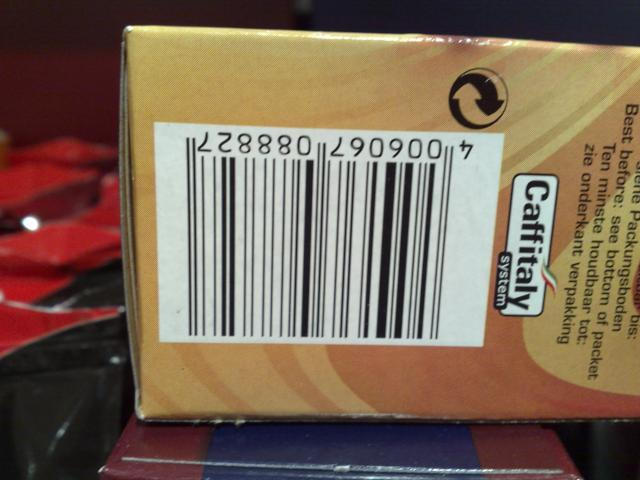Barcode: (153, 121, 492, 348)
